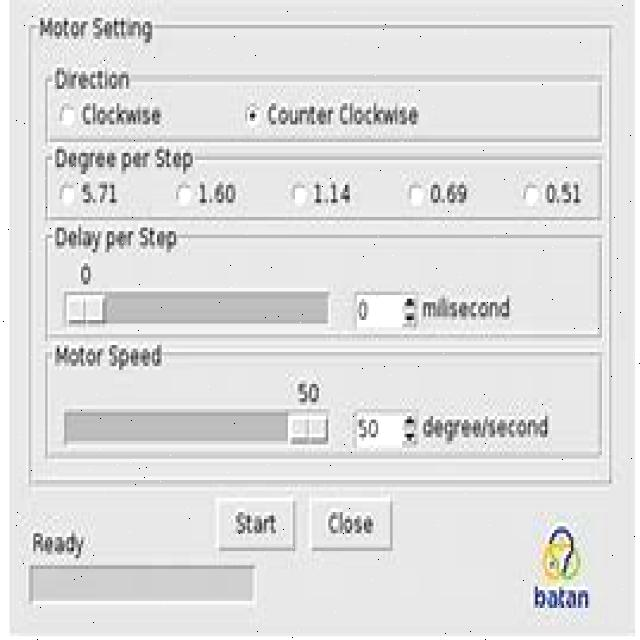button: (308, 491, 394, 555), (215, 493, 297, 555)
icon: (528, 519, 592, 616)
label: (268, 98, 422, 136), (53, 219, 185, 256), (38, 12, 155, 53), (422, 407, 550, 444), (51, 144, 197, 175), (49, 340, 166, 370), (421, 290, 514, 326), (81, 98, 166, 130), (51, 61, 130, 94), (29, 524, 90, 564), (545, 172, 586, 212), (312, 176, 356, 213), (428, 178, 470, 214), (81, 177, 124, 209), (198, 176, 238, 209), (294, 379, 322, 403), (78, 260, 92, 286)
radio: (288, 178, 308, 210), (58, 100, 78, 131), (174, 180, 193, 212), (523, 179, 541, 211), (407, 180, 425, 210), (57, 181, 76, 209), (244, 103, 262, 129)
slider: (61, 403, 331, 450), (62, 288, 332, 332)
upDown: (352, 408, 418, 451), (354, 292, 418, 334)
